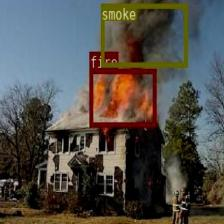fire: (89, 68, 155, 127)
smoke: (100, 2, 187, 66)
